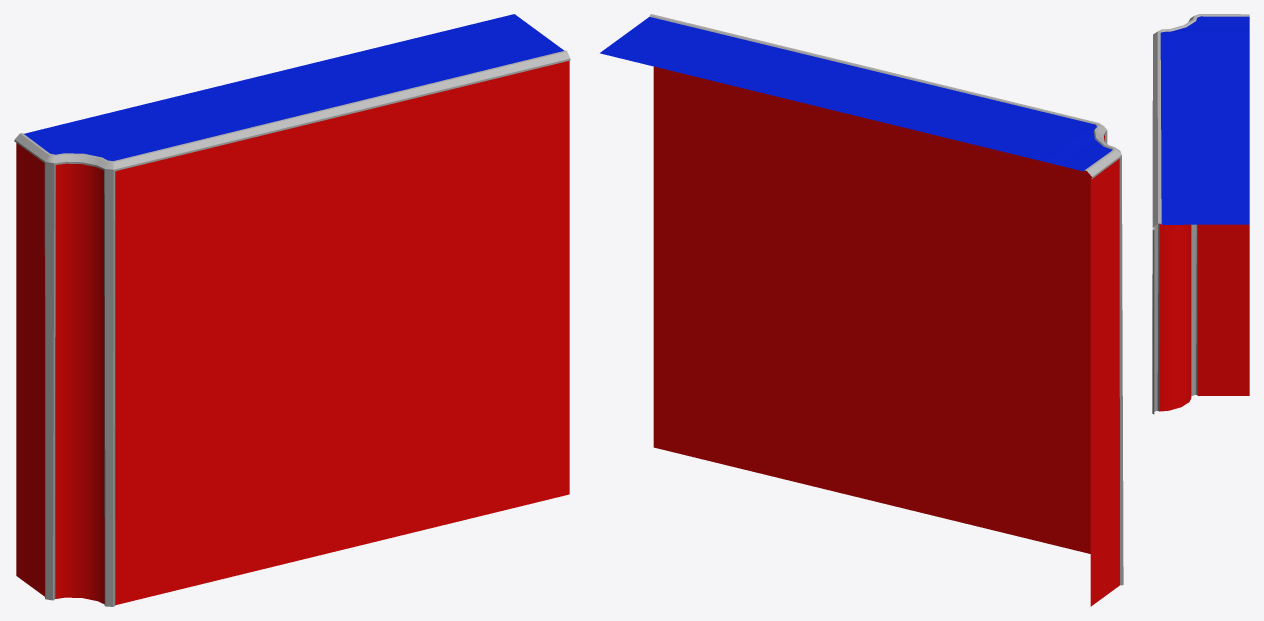
The model's file is CUT OUT.fbx.
The picture shows the model from 3 angles, left to right: view 1: azimuth 30°, elevation 25°; view 2: azimuth 150°, elevation 25°; view 3: azimuth 270°, elevation 25°; orthographic projection. The views are drawn at different scales.
Parts seen in each view (by area): view 1: pCube34; view 2: pCube34; view 3: pCube34.
Boxes of the visible parts, left/top/right/bottom form: pCube34: left=14, top=14, right=570, bottom=606; pCube34: left=600, top=14, right=1123, bottom=606; pCube34: left=1152, top=14, right=1249, bottom=414.
Bounding box in the file's own units: 1051 × 886 × 204.
